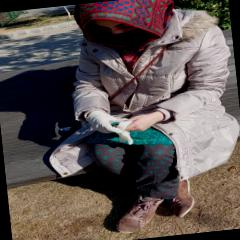gloved: (85, 108, 118, 136)
not-gloved: (122, 110, 166, 133)
